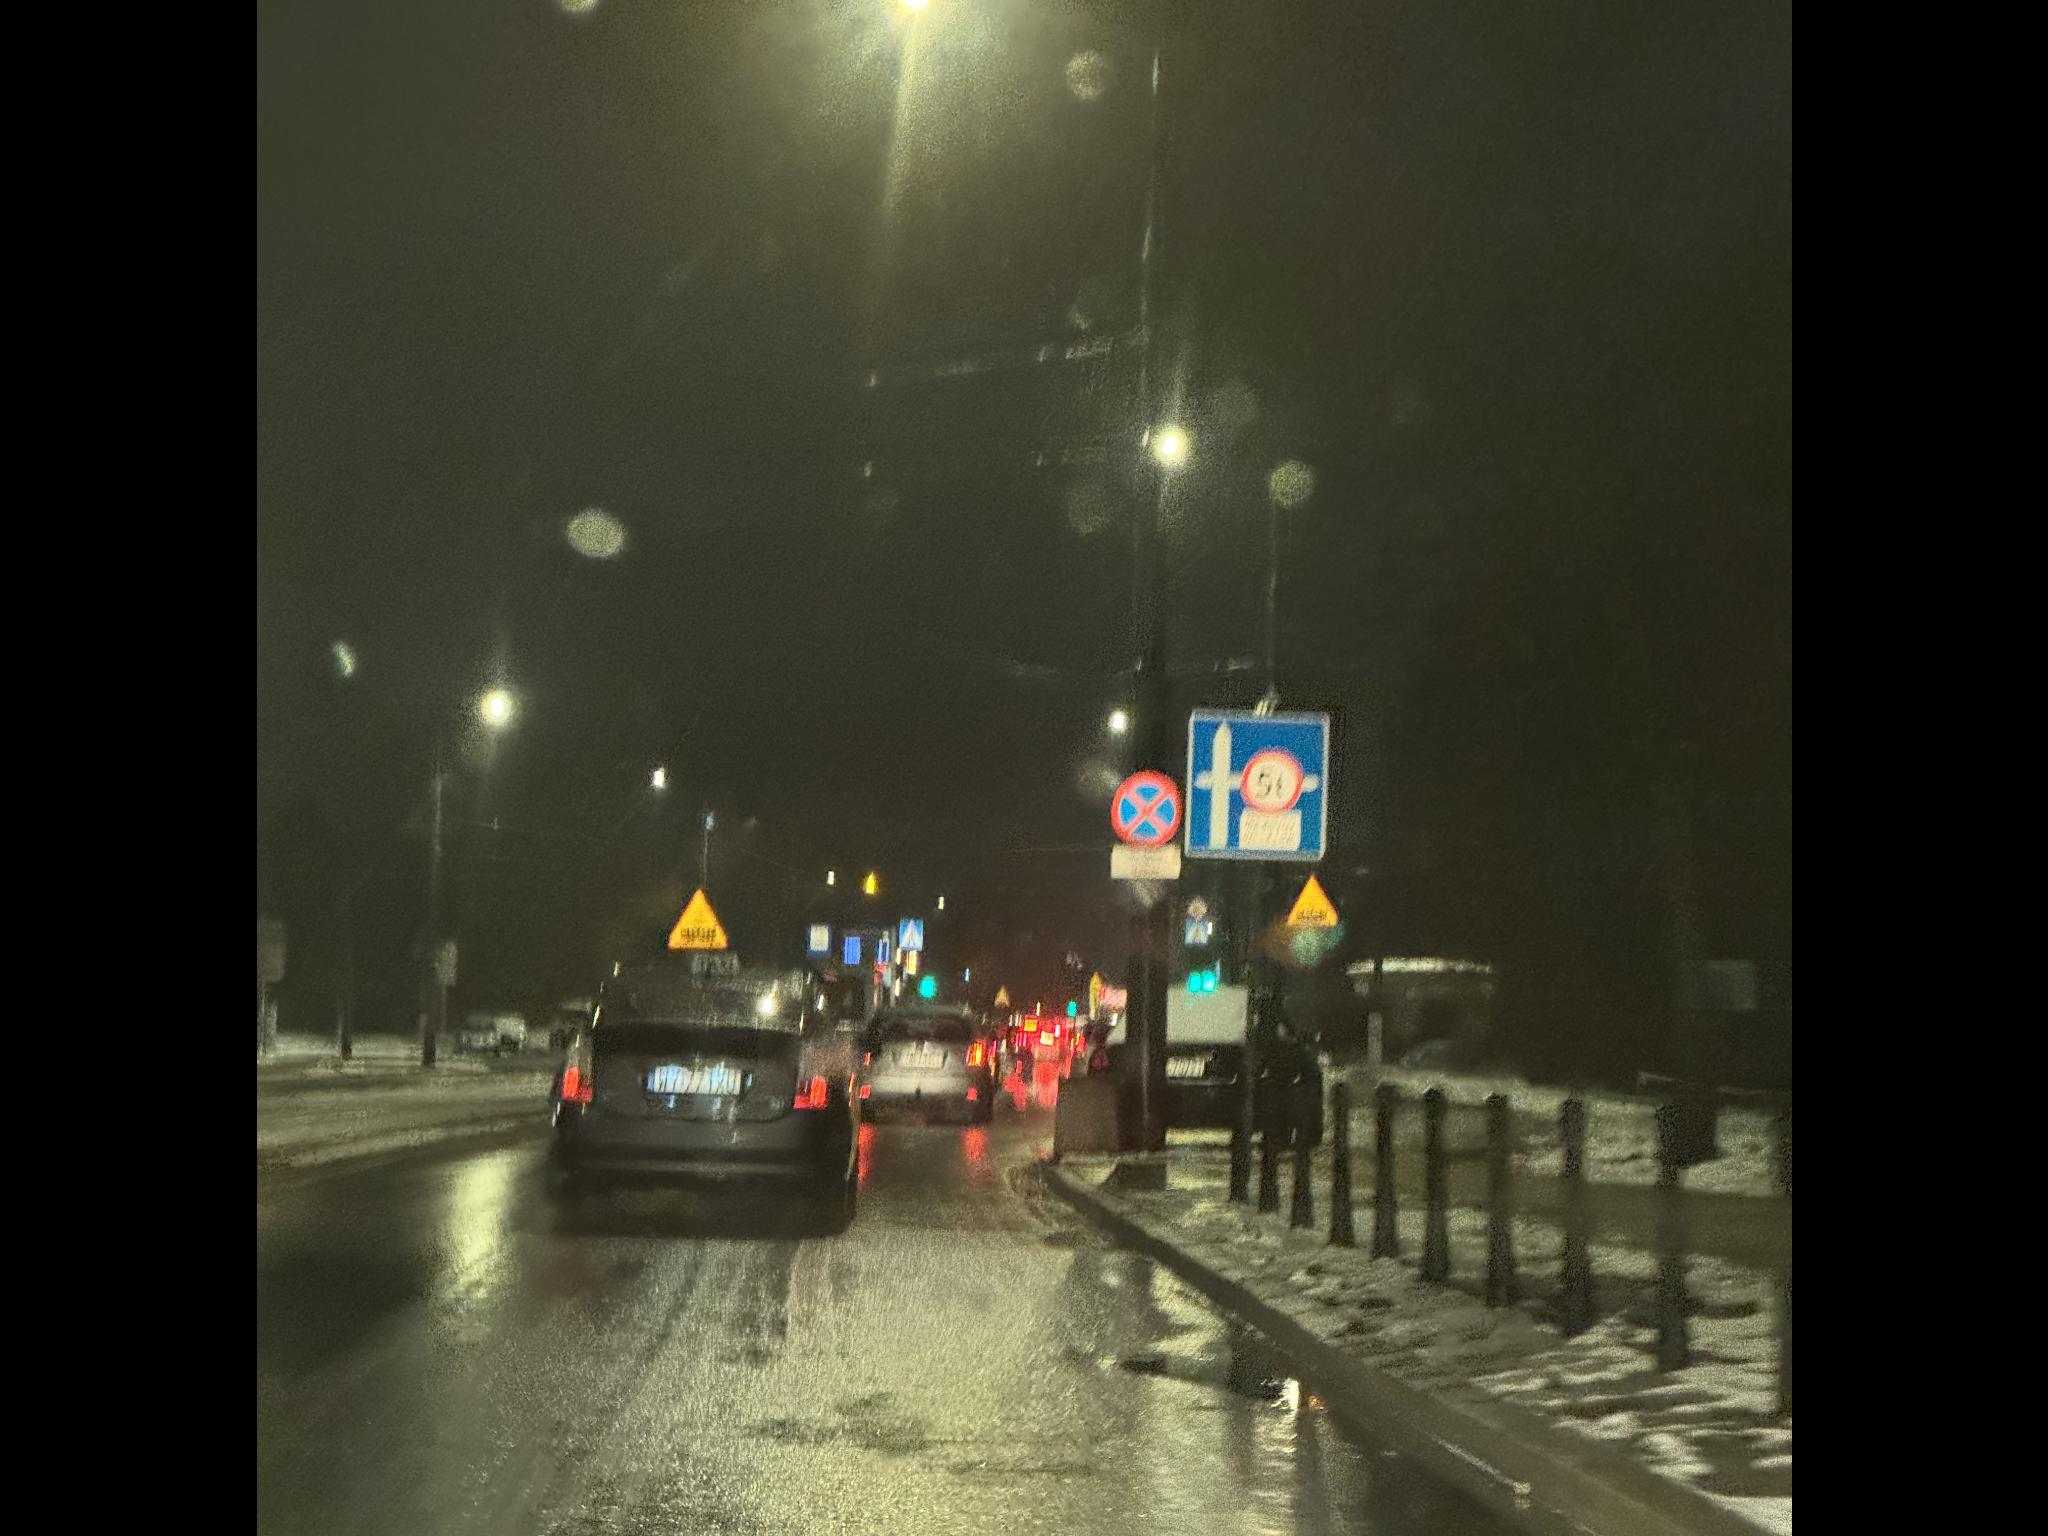other: (674, 673, 826, 818), (656, 595, 690, 668)
prohibitory: (692, 599, 764, 671)
warning: (587, 157, 648, 221), (611, 773, 661, 823)
